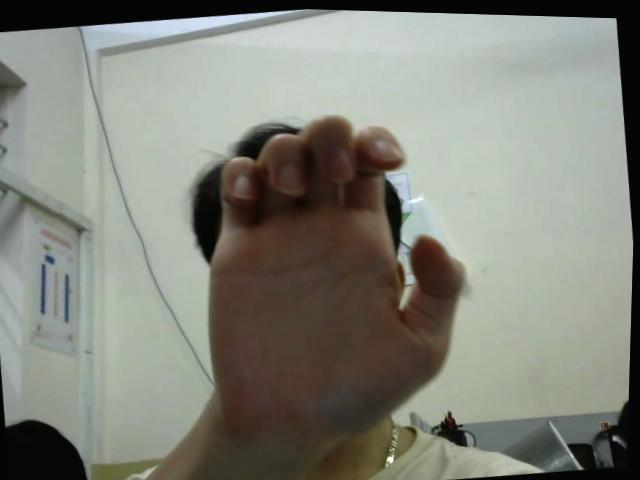E: (184, 94, 486, 442)
